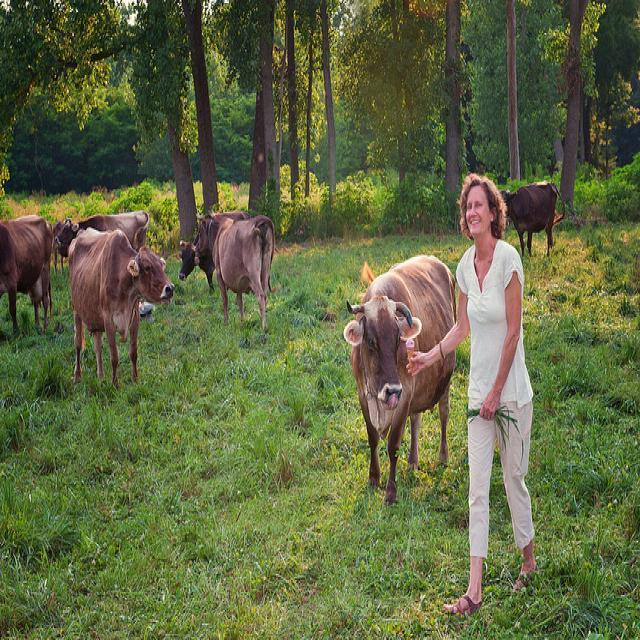cow: (342, 254, 456, 500), (67, 225, 173, 391), (192, 206, 280, 327), (0, 212, 52, 341), (498, 178, 565, 259), (54, 208, 150, 253), (177, 233, 213, 291)
